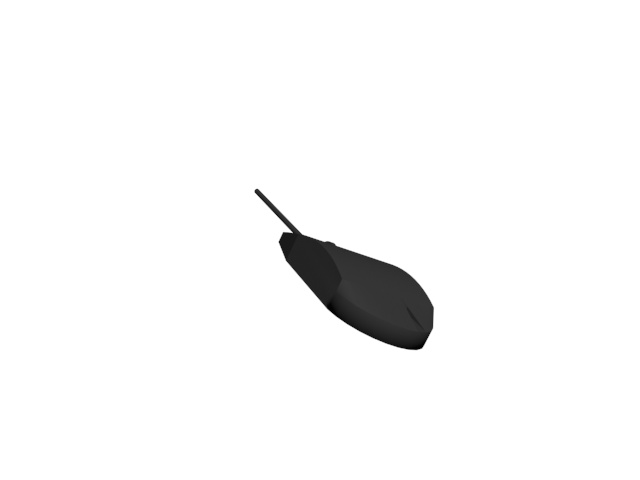mouse: (249, 185, 440, 352)
